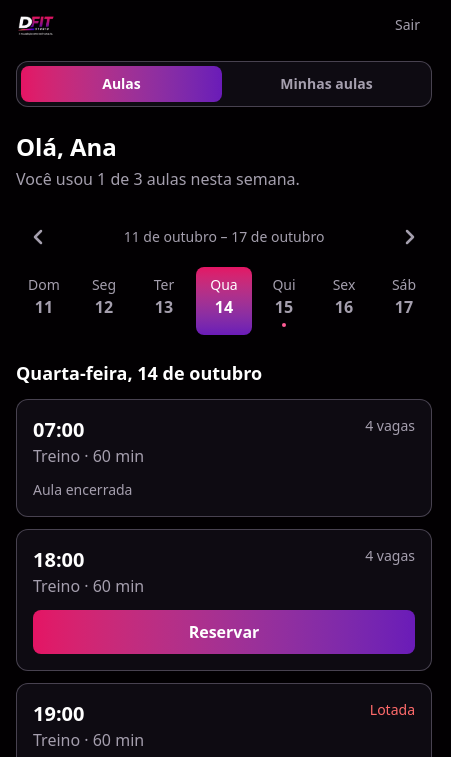
week view › loads another week
Expected: the text "18:00" is shown, [33, 546, 84, 573]
Click the button named "Próxima semana" at point(410, 237), box [388, 215, 432, 259]
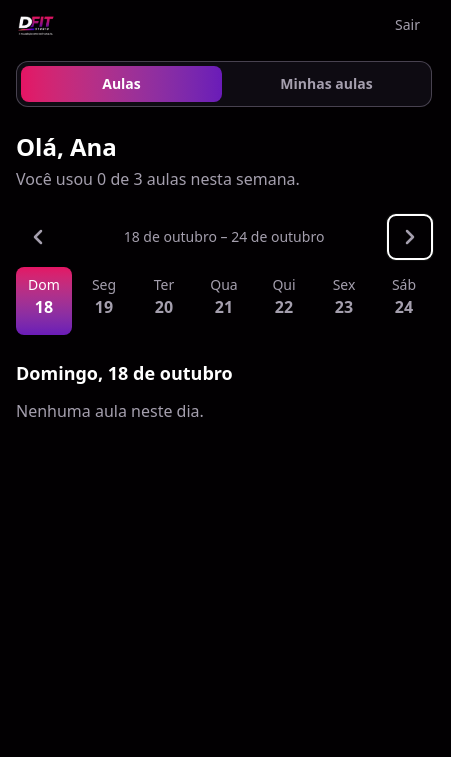
Now the text "Nenhuma aula neste dia." is shown, box [16, 400, 204, 422]
Now the text "Você usou 0 de 3 aulas nesta semana." is shown, box [16, 168, 300, 190]
